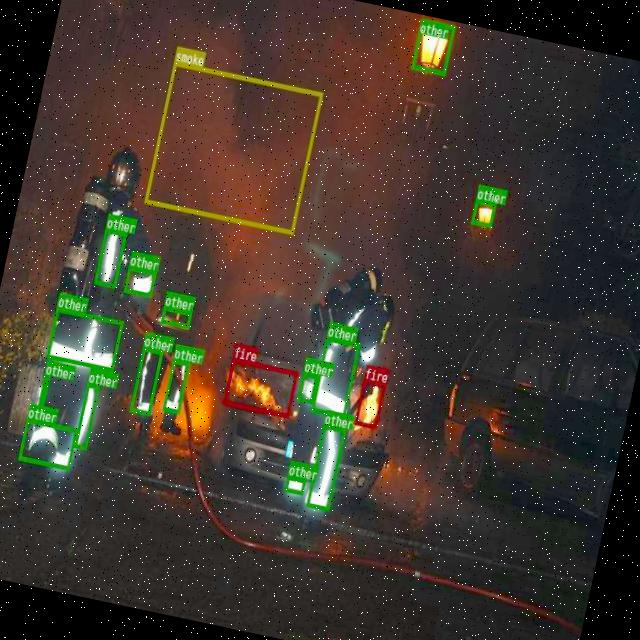fire: (222, 357, 298, 418), (353, 378, 385, 428)
smoke: (144, 60, 322, 233)
